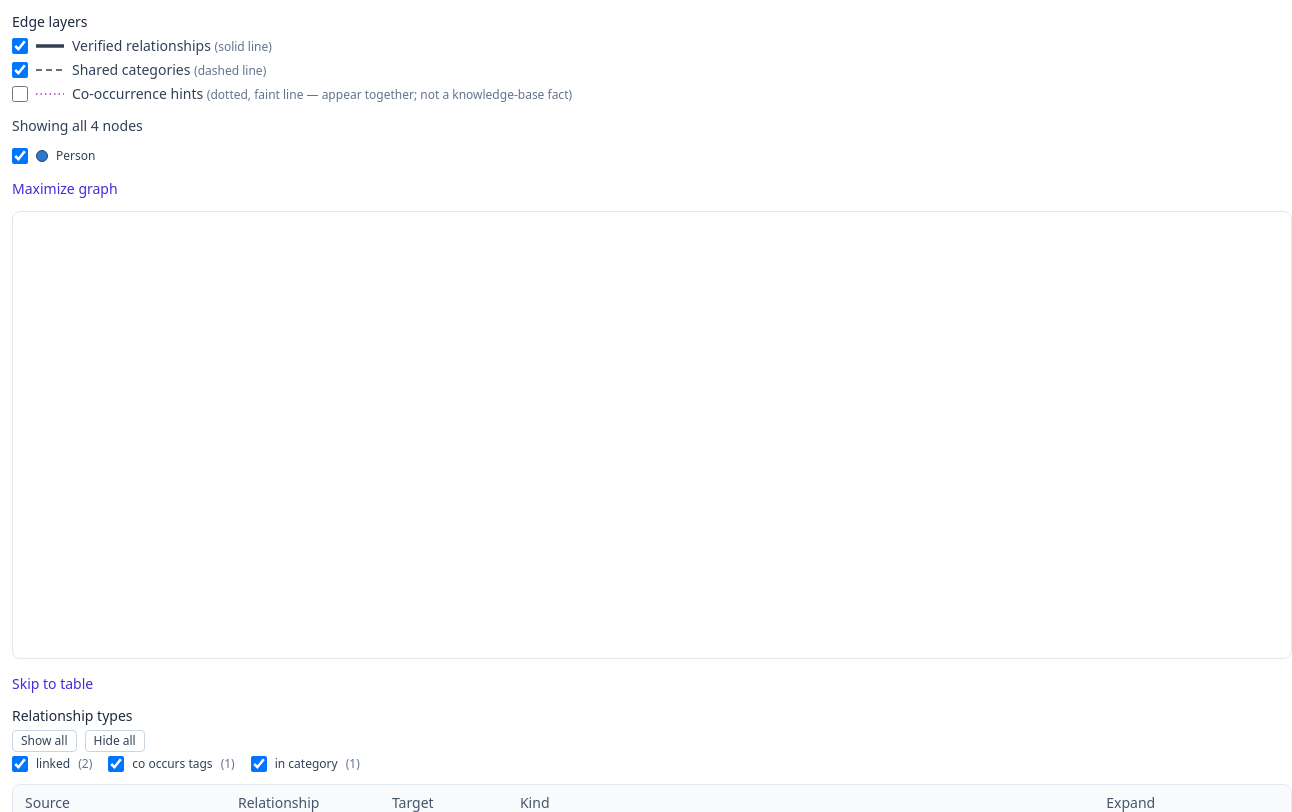
Scenario: ExplorePanel layer toggles › never sends an empty edge_types (the server would default it) when all layers are off
This screenshot has width=1292, height=812.
Click the checkbox labelled "Verified relationships (solid line)": click(20, 46) 12,38 -> 28,54
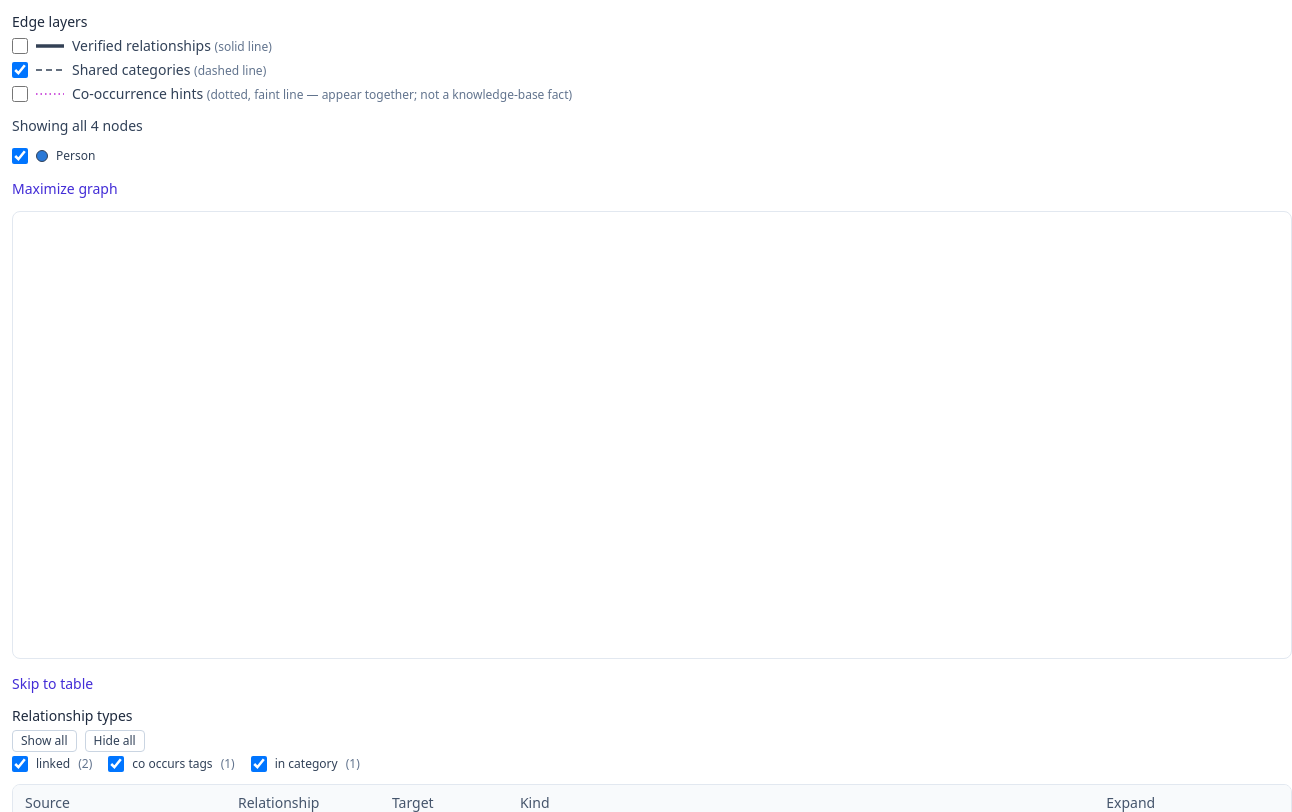
Click the checkbox labelled "Shared categories (dashed line)": click(20, 70) 12,62 -> 28,78
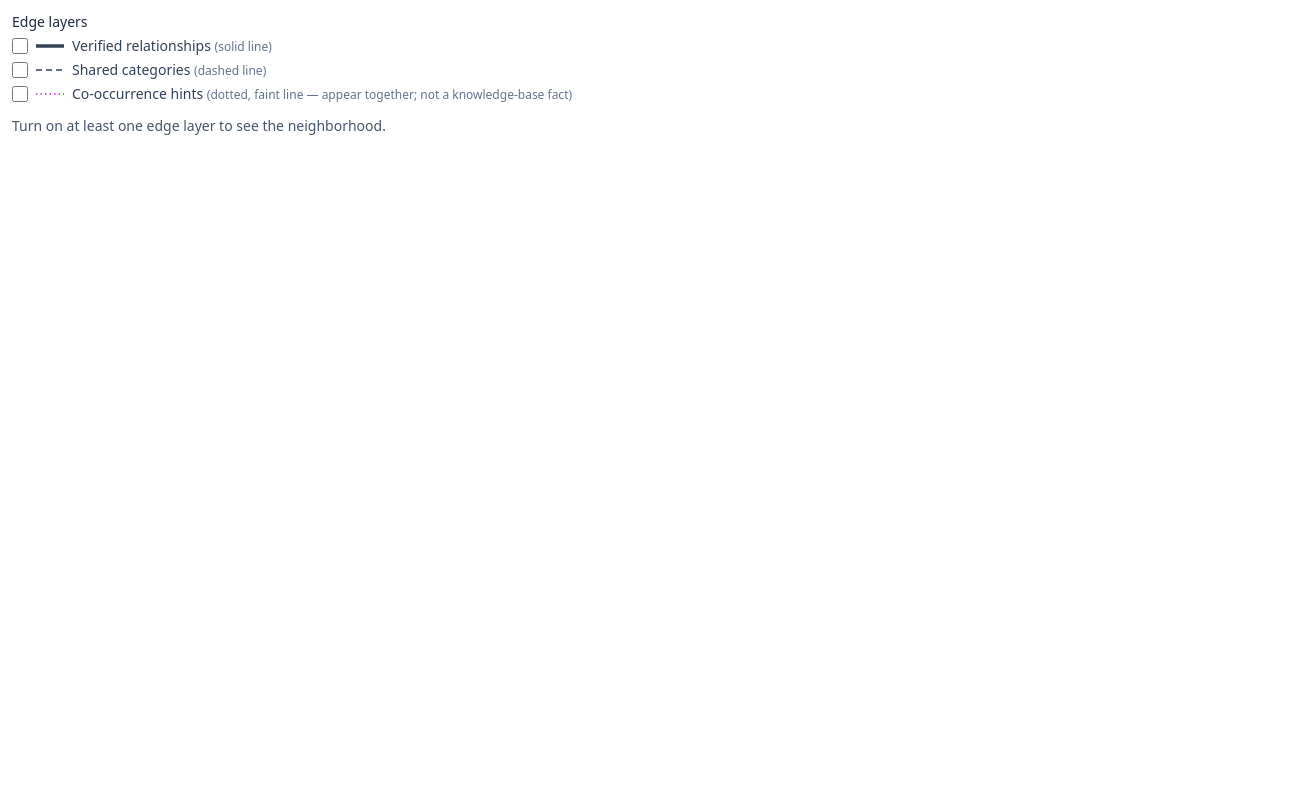
Check: the message "Turn on at least one edge layer to see the neighborhood." is shown, box 12,116 -> 386,135
Check: the picture with test id "connection-graph" is gone
